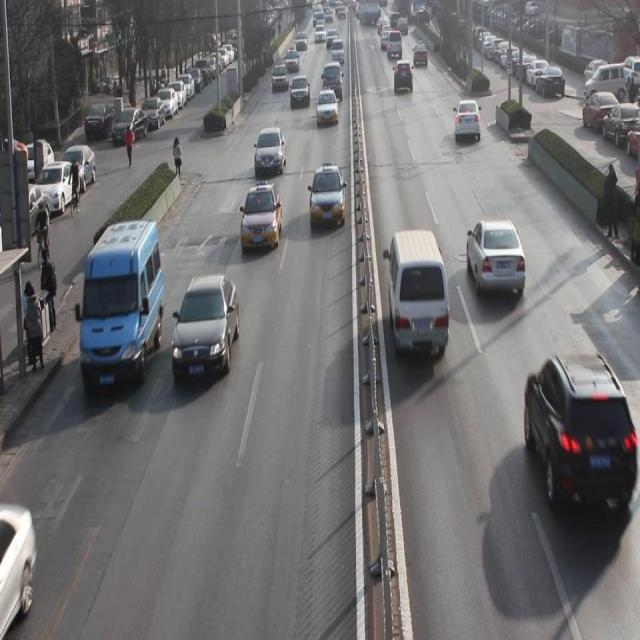car: (523, 348, 627, 517), (172, 274, 239, 379), (466, 218, 528, 301), (241, 182, 282, 254), (310, 165, 346, 230), (254, 127, 287, 178), (455, 99, 482, 143), (316, 90, 340, 126), (393, 56, 414, 96), (290, 75, 310, 108), (271, 62, 290, 94), (282, 46, 300, 72)
truck: (79, 223, 165, 391), (387, 230, 452, 358), (320, 60, 343, 100)
